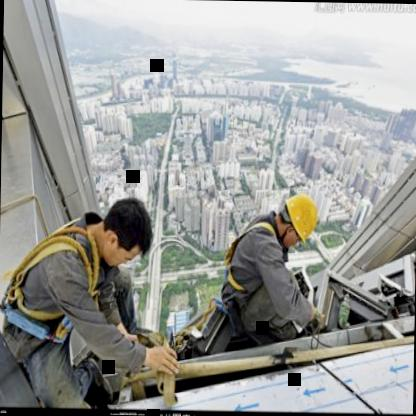head: (90, 194, 160, 272)
helmet: (272, 186, 325, 249)
